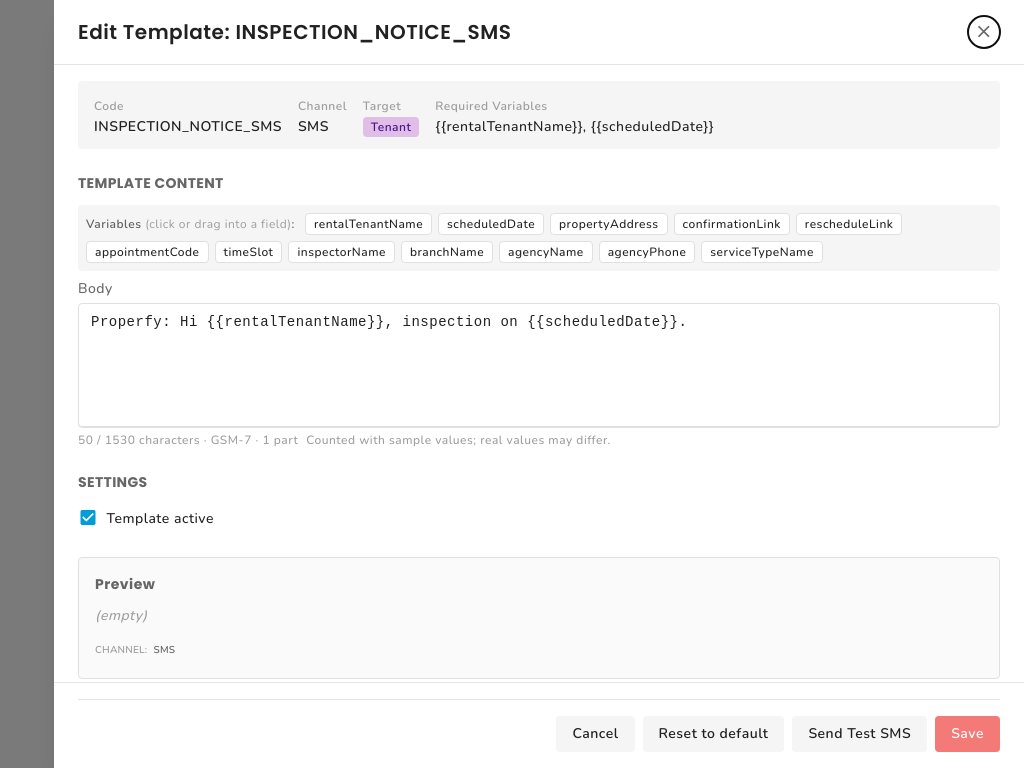
TemplateFormDrawer — SMS channel › blocks saving an SMS template with an empty body
The image size is (1024, 768).
Clear the text box named "Body" at (539,362), box [79, 304, 999, 420]
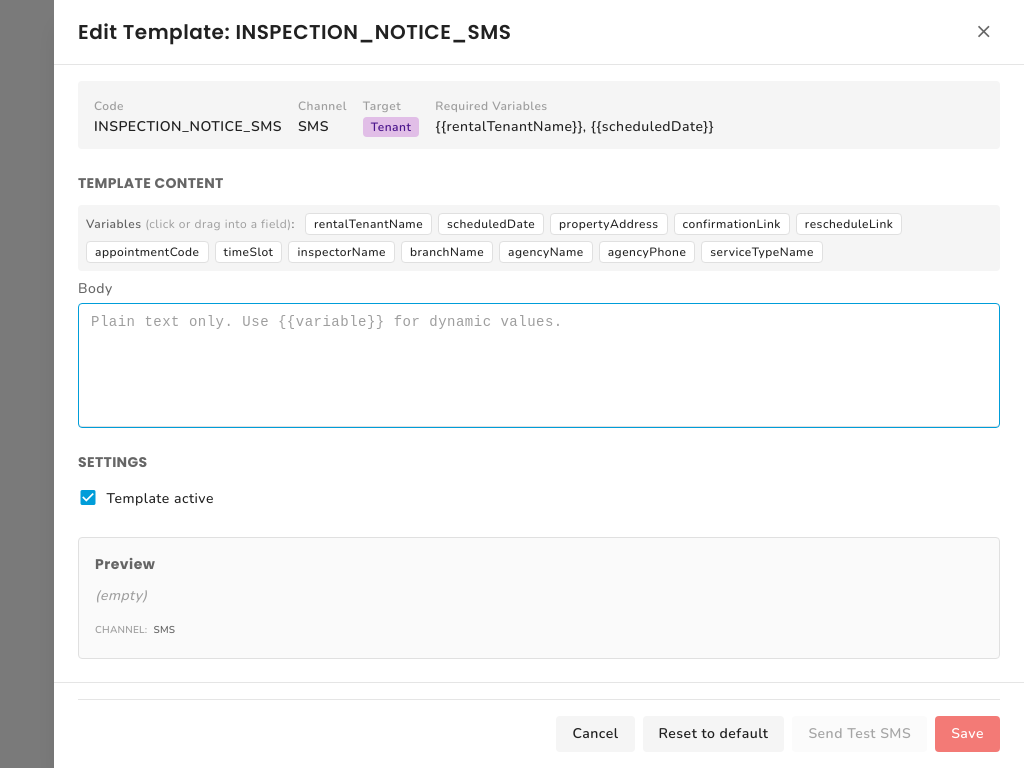
Click the button "Save" at (968,734), box [935, 716, 1000, 752]
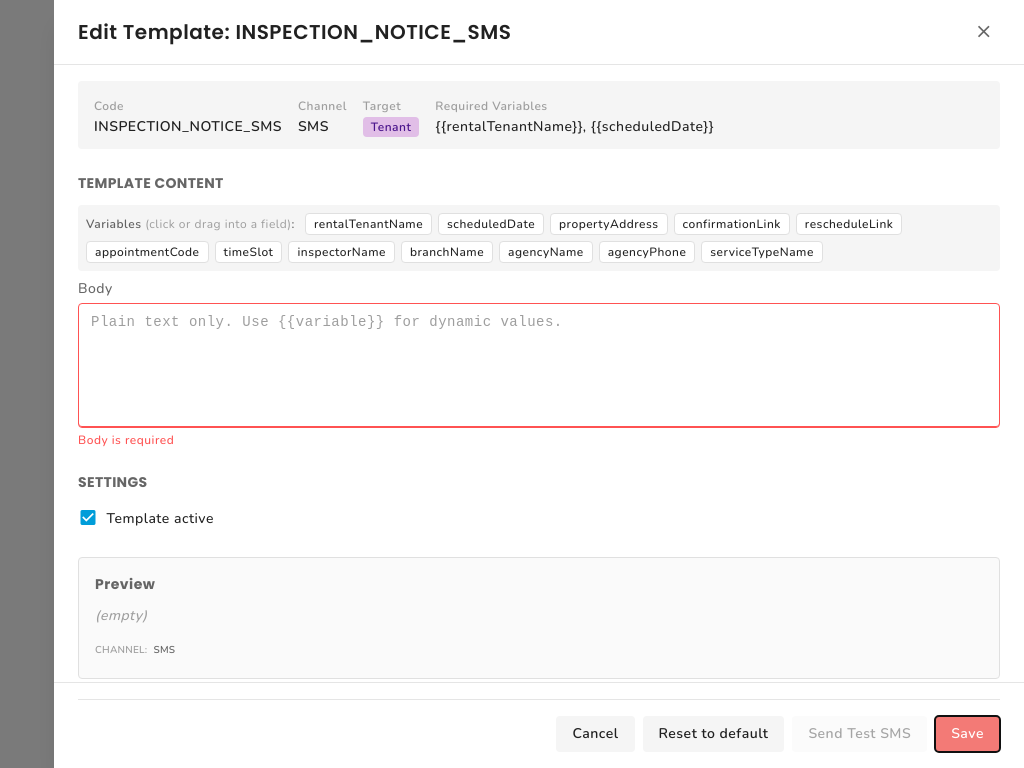
Now the text "Body is required" is shown, box [78, 432, 174, 448]
